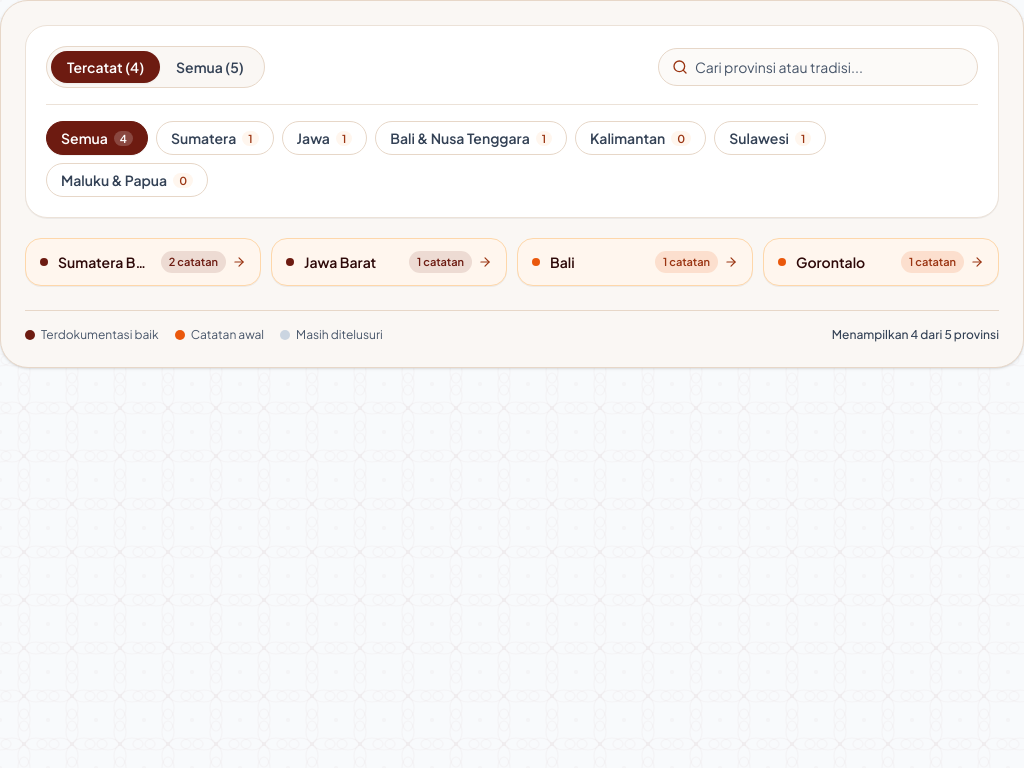
ProvinceExplorer › dapat menutup Modal Dialog via klik pada area backdrop
Click the button "Sumatera Barat 2 catatan" at [143, 262], box [25, 238, 261, 286]
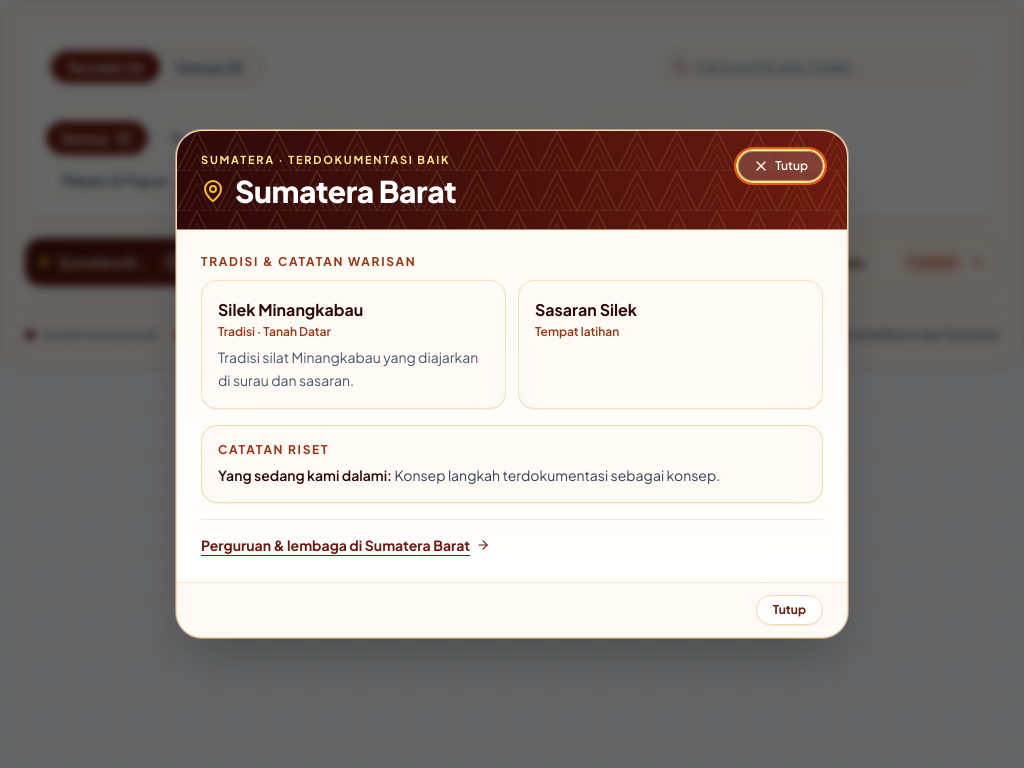
Expected: the dialog is shown, [176, 130, 848, 638]
# Klik backdrop
Click the element with test id "province-modal-backdrop" at [61, 384], box [0, 0, 1023, 767]
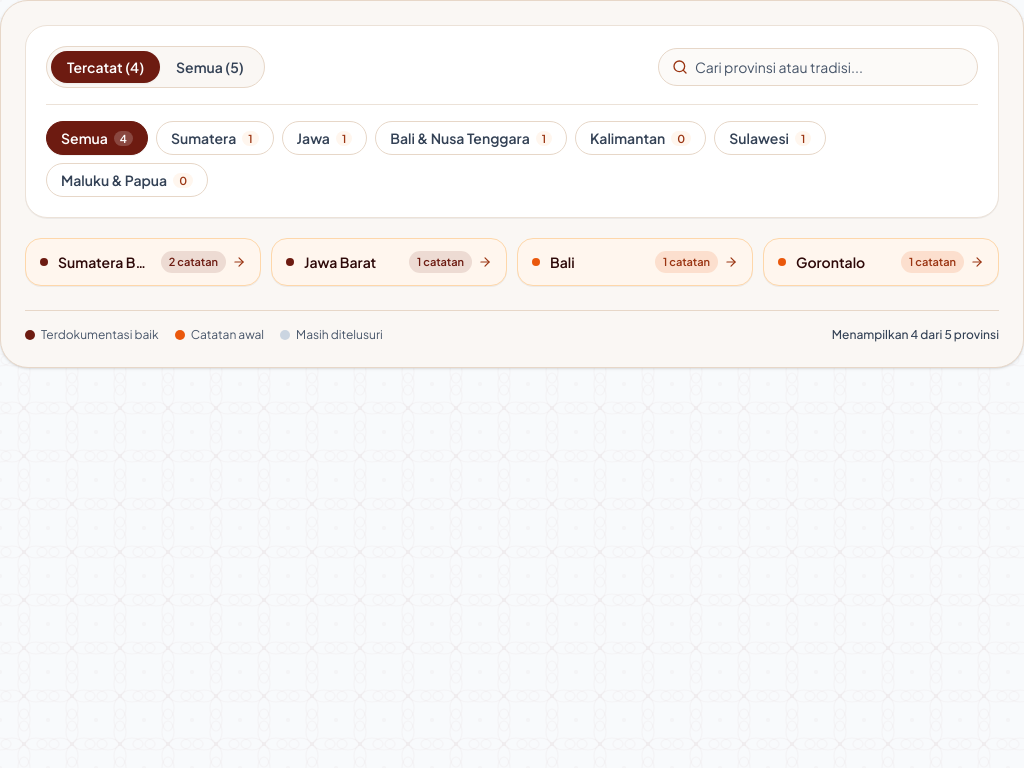
Expected: the dialog is gone
